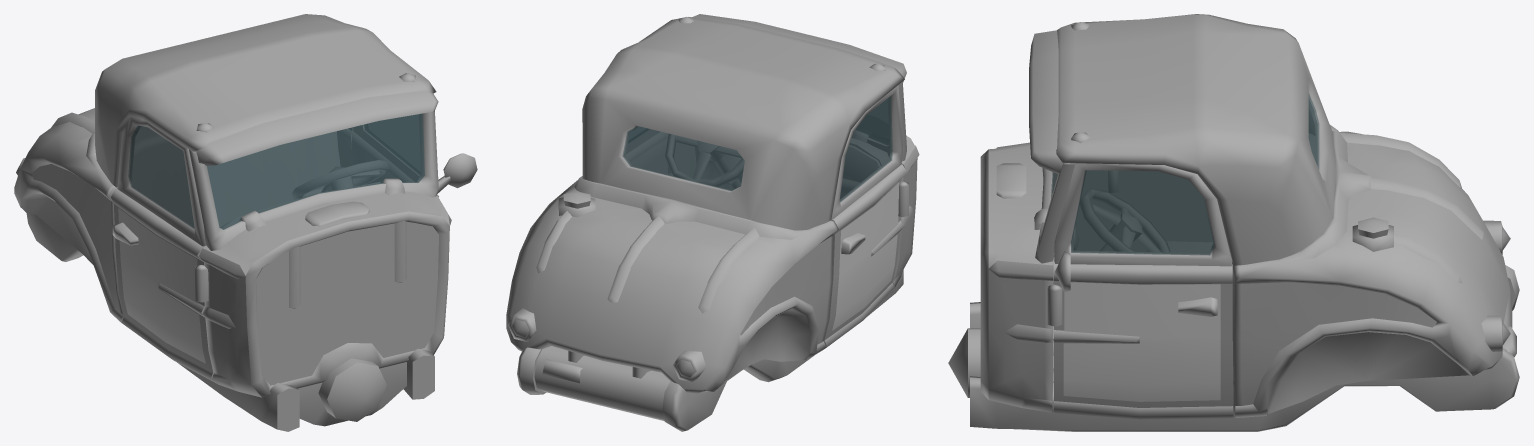
File: Body_Surfster.fbx
3 views of the same model, side by side, from view 1: azimuth 30°, elevation 25°; view 2: azimuth 150°, elevation 25°; view 3: azimuth 270°, elevation 25° (orthographic). The views are drawn at different scales.
Visible parts, largest first — view 1: Surfster_Body_Mesh, Surfster_Roof_Mesh, Surfster_Body_Window_Mesh, Surfster_Door_Right_Mesh, Surfster_Door_Right_Decal_Mesh, Surfster_Door_Right_Window_Mesh, Surfster_Door_Left_Mesh, Surfster_Door_Left_Window_Mesh, Surfster_Steering_Wheel_Mesh; view 2: Surfster_Body_Mesh, Surfster_Roof_Mesh, Surfster_Door_Right_Mesh, Surfster_Door_Right_Decal_Mesh, Surfster_Roof_Window_Mesh, Surfster_Door_Right_Window_Mesh, Surfster_Door_Left_Mesh, Surfster_Steering_Wheel_Mesh, Surfster_Body_Window_Mesh; view 3: Surfster_Body_Mesh, Surfster_Roof_Mesh, Surfster_Door_Left_Decal_Mesh, Surfster_Door_Left_Mesh, Surfster_Door_Left_Window_Mesh, Surfster_Door_Right_Mesh, Surfster_Steering_Wheel_Mesh, Surfster_Roof_Window_Mesh.
Boxes of the visible parts, box(x1,y1,x2,y2) form: Surfster_Body_Mesh: box(14, 93, 451, 431); Surfster_Roof_Mesh: box(95, 14, 438, 187); Surfster_Body_Window_Mesh: box(207, 113, 424, 229); Surfster_Door_Right_Mesh: box(111, 117, 216, 383); Surfster_Door_Right_Decal_Mesh: box(118, 208, 205, 363); Surfster_Door_Right_Window_Mesh: box(128, 125, 194, 228); Surfster_Door_Left_Mesh: box(350, 114, 477, 197); Surfster_Door_Left_Window_Mesh: box(364, 115, 419, 174); Surfster_Steering_Wheel_Mesh: box(292, 160, 389, 199); Surfster_Body_Mesh: box(506, 82, 919, 431); Surfster_Roof_Mesh: box(582, 14, 906, 230); Surfster_Door_Right_Mesh: box(824, 85, 907, 347); Surfster_Door_Right_Decal_Mesh: box(832, 182, 899, 330); Surfster_Roof_Window_Mesh: box(622, 126, 744, 191); Surfster_Door_Right_Window_Mesh: box(839, 96, 892, 202); Surfster_Door_Left_Mesh: box(626, 129, 696, 177); Surfster_Steering_Wheel_Mesh: box(665, 134, 744, 189); Surfster_Body_Window_Mesh: box(856, 100, 889, 144); Surfster_Body_Mesh: box(948, 125, 1519, 431); Surfster_Roof_Mesh: box(1029, 14, 1335, 265); Surfster_Door_Left_Decal_Mesh: box(1063, 282, 1220, 401); Surfster_Door_Left_Mesh: box(1054, 163, 1233, 419); Surfster_Door_Left_Window_Mesh: box(1071, 170, 1214, 255); Surfster_Door_Right_Mesh: box(1076, 170, 1212, 251); Surfster_Steering_Wheel_Mesh: box(1080, 188, 1169, 251); Surfster_Roof_Window_Mesh: box(1308, 93, 1319, 169).
Size of the model in its own units: 169 by 164 by 253.
